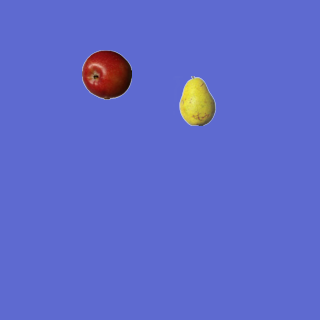Apple Braeburn: (81, 49, 131, 99)
Pear Monster: (172, 75, 222, 125)
